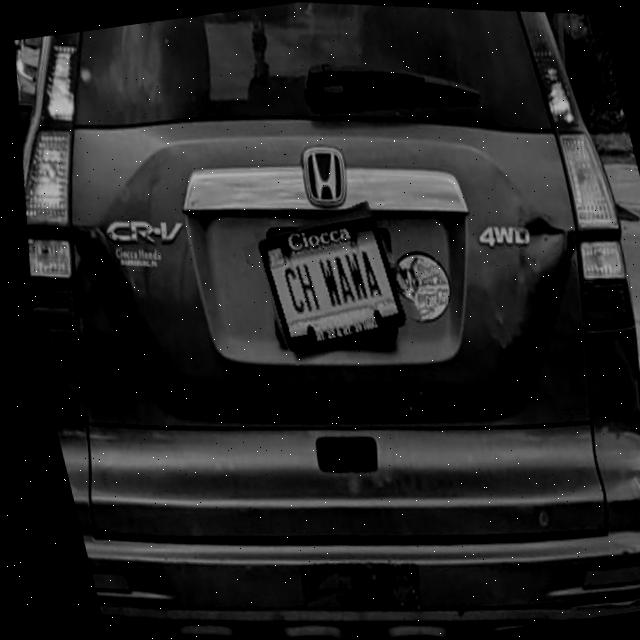LicensePlate: (252, 217, 400, 351)
